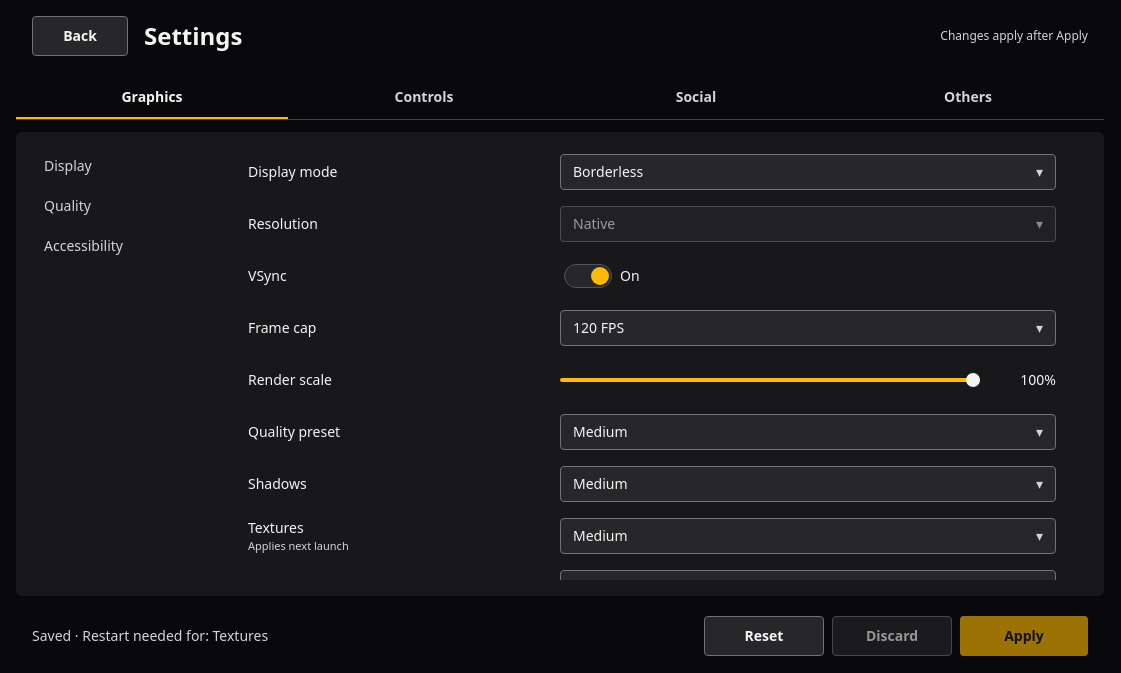
SettingsScreen › shows apply errors and pending restart in the status
The width and height of the screenshot is (1121, 673).
Click the switch named "VSync".
click(606, 276)  # box [560, 258, 652, 294]
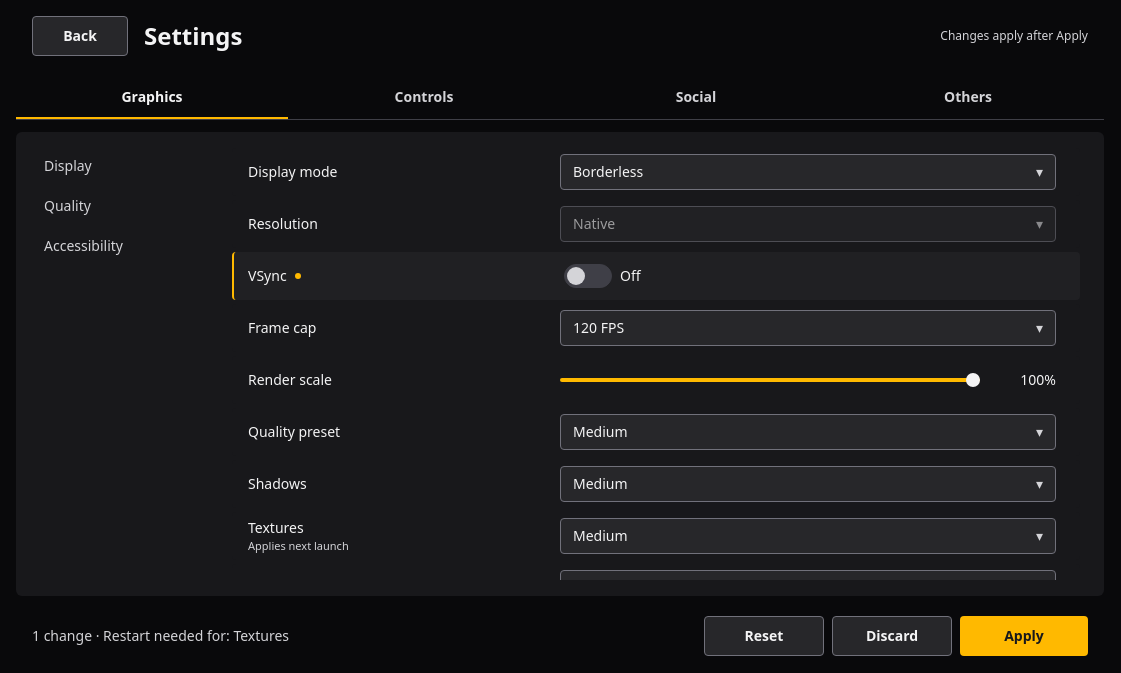
Click the button "Apply".
click(1024, 636)  # box [960, 616, 1088, 656]
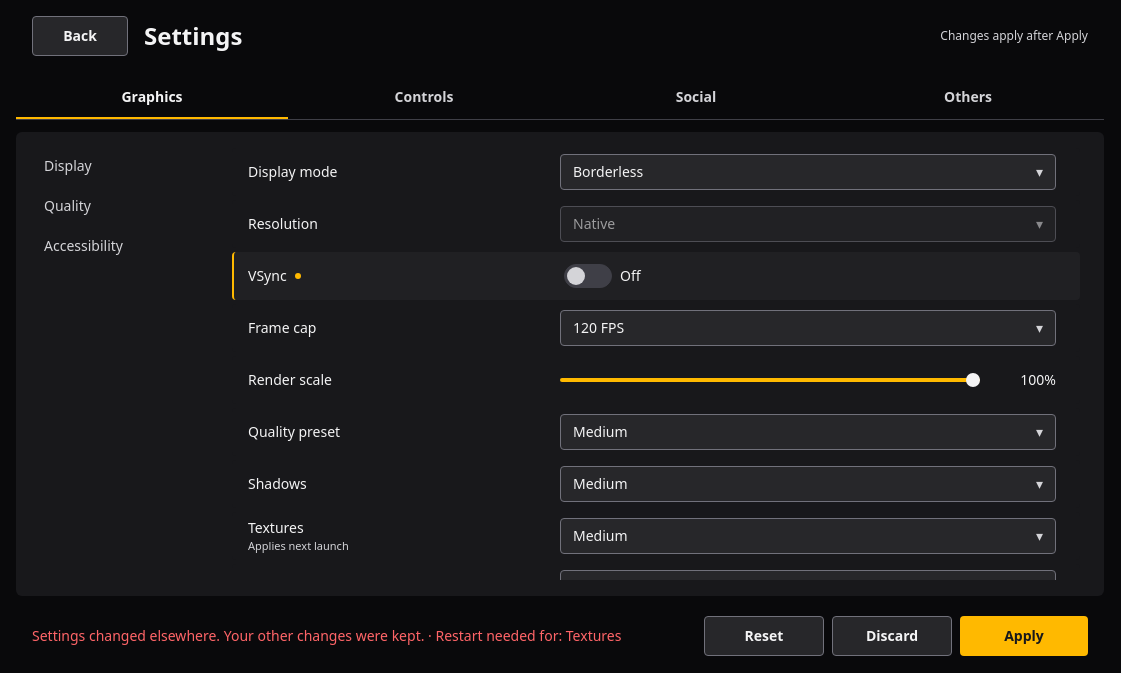
Expected: the text "Settings changed elsewhere. Your other changes were kept. · Restart needed for: Textures" is shown, [32, 626, 622, 645]
